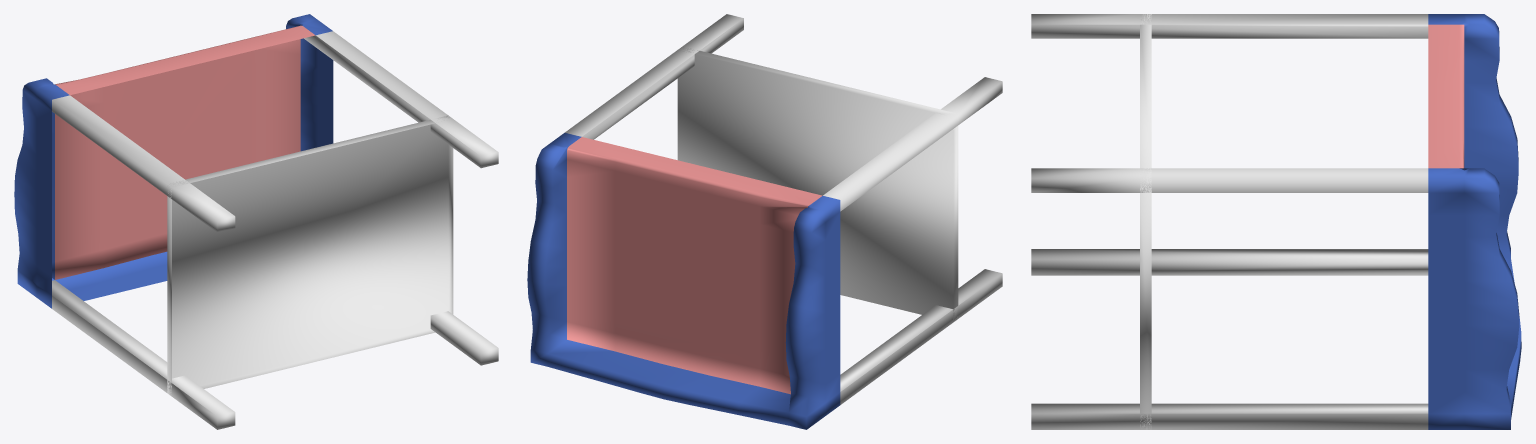
The picture shows the model from 3 angles, left to right: view 1: azimuth 30°, elevation 25°; view 2: azimuth 150°, elevation 25°; view 3: azimuth 270°, elevation 25°; orthographic projection. The views are drawn at different scales.
Visible parts, largest first — view 1: Cube; view 2: Cube; view 3: Cube.
Part boxes in pixels (x1,y1,x2,y2): Cube: (14, 14, 498, 429); Cube: (527, 14, 1002, 429); Cube: (1031, 14, 1521, 429).
Bounding box in the file's own units: 90 × 64 × 113.
